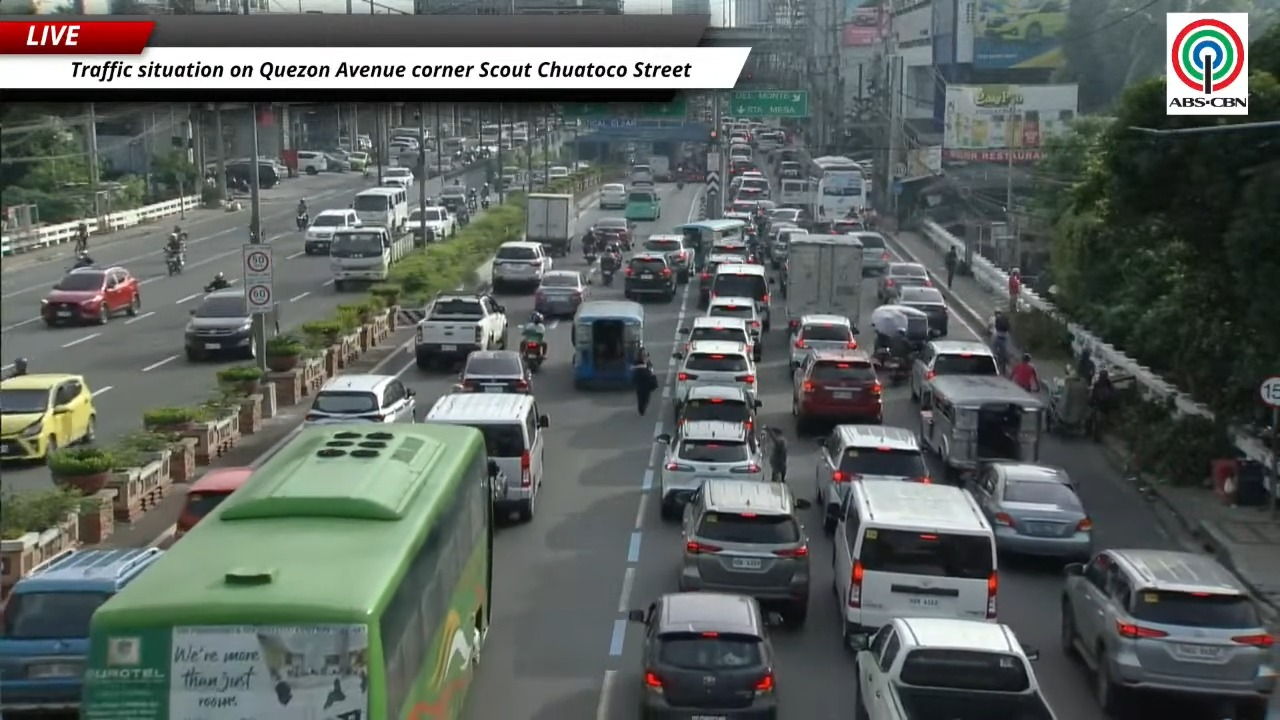bus: (81, 424, 493, 719), (808, 156, 866, 224), (480, 124, 500, 147)
car: (1061, 548, 1276, 717), (0, 548, 163, 719), (853, 616, 1054, 719), (679, 478, 810, 626), (628, 592, 778, 719), (815, 424, 931, 532), (967, 463, 1092, 560), (657, 421, 765, 519), (0, 373, 95, 460), (792, 349, 881, 432), (673, 340, 758, 413), (172, 467, 252, 541), (41, 267, 140, 326), (304, 374, 415, 425), (184, 288, 256, 361), (910, 340, 999, 399), (676, 385, 761, 433), (978, 0, 1067, 44), (789, 314, 857, 371), (705, 297, 762, 361), (679, 315, 758, 358), (458, 350, 531, 393), (698, 246, 747, 307), (492, 241, 551, 290), (894, 286, 948, 336), (304, 208, 361, 254), (624, 252, 677, 301), (534, 270, 589, 317), (641, 234, 693, 283), (877, 262, 931, 303), (408, 206, 457, 244), (765, 221, 800, 268), (770, 227, 808, 269), (854, 231, 891, 274), (591, 218, 631, 249), (711, 237, 750, 262), (438, 182, 467, 214), (738, 174, 770, 198), (297, 150, 329, 174), (722, 199, 755, 222), (732, 187, 766, 207), (384, 167, 414, 189), (830, 217, 866, 234), (769, 207, 800, 224), (325, 151, 350, 172), (346, 151, 369, 171), (778, 161, 801, 178), (547, 165, 569, 180)
motorcycle: (522, 340, 544, 371), (166, 250, 184, 275), (71, 253, 94, 269), (601, 268, 615, 286), (296, 212, 308, 230), (583, 250, 597, 264), (467, 197, 477, 211), (481, 197, 490, 210), (677, 180, 684, 189)
truck: (854, 618, 1054, 719), (785, 234, 862, 331), (414, 292, 507, 368), (329, 226, 413, 290), (525, 193, 577, 256), (776, 179, 812, 210), (648, 154, 672, 181)
